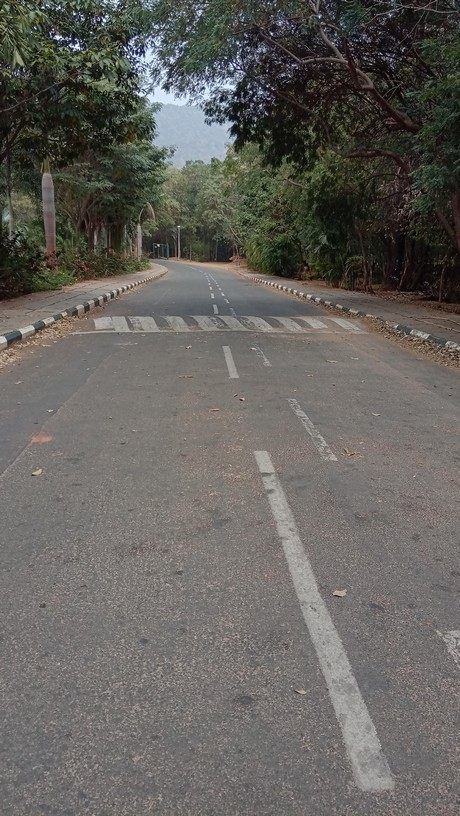bump: (63, 314, 369, 336)
